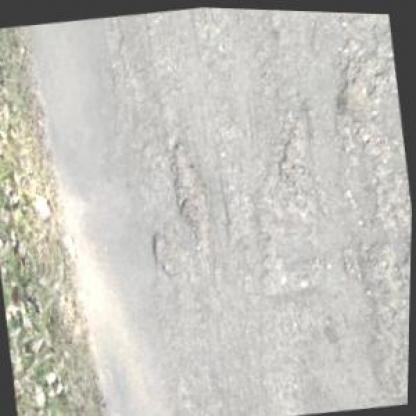pothole: (165, 136, 214, 248), (329, 64, 387, 136), (270, 115, 316, 193), (362, 233, 401, 290), (148, 227, 182, 279)
